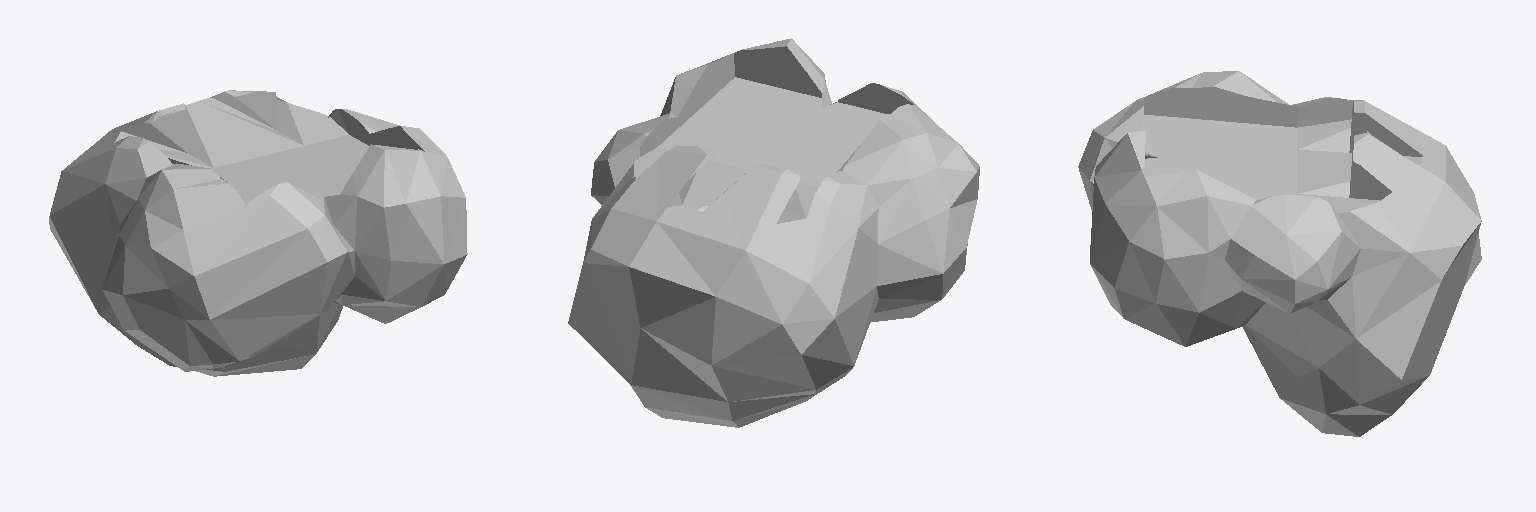
Rendered from forcefieldrock.obj.
3 renders of one model, left to right at view 1: azimuth 30°, elevation 25°; view 2: azimuth 150°, elevation 25°; view 3: azimuth 270°, elevation 25°, orthographic.
Visible parts, largest first — view 1: polySurface290.001; view 2: polySurface290.001; view 3: polySurface290.001.
Part boxes in pixels (bbox=[...]): polySurface290.001: bbox=[49, 90, 467, 376]; polySurface290.001: bbox=[568, 38, 979, 427]; polySurface290.001: bbox=[1078, 71, 1481, 436].
Size of the model in its own units: 3.75 by 3.22 by 3.95.